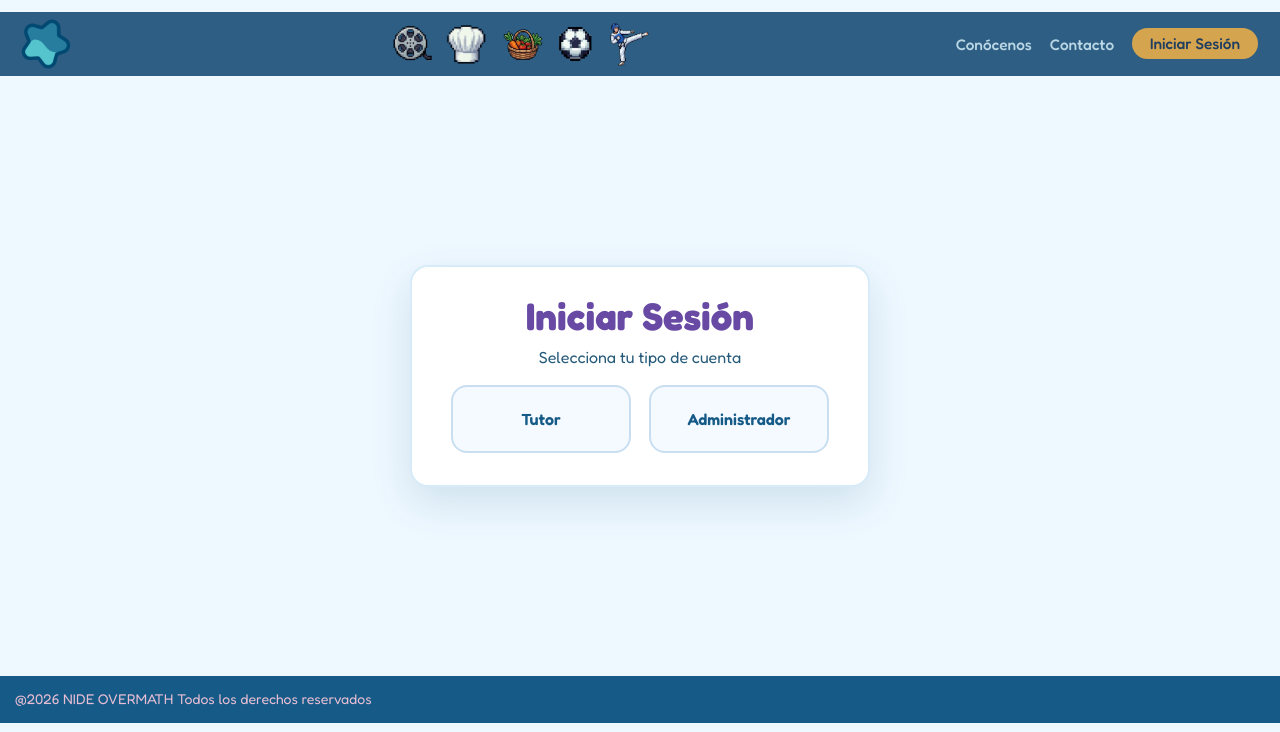
Test: LoginPage › muestra "Acceso Administrador" al elegir rol admin
This screenshot has width=1280, height=732.
Step 1. Click the button "Administrador" → click(739, 419), box [649,385,829,453]
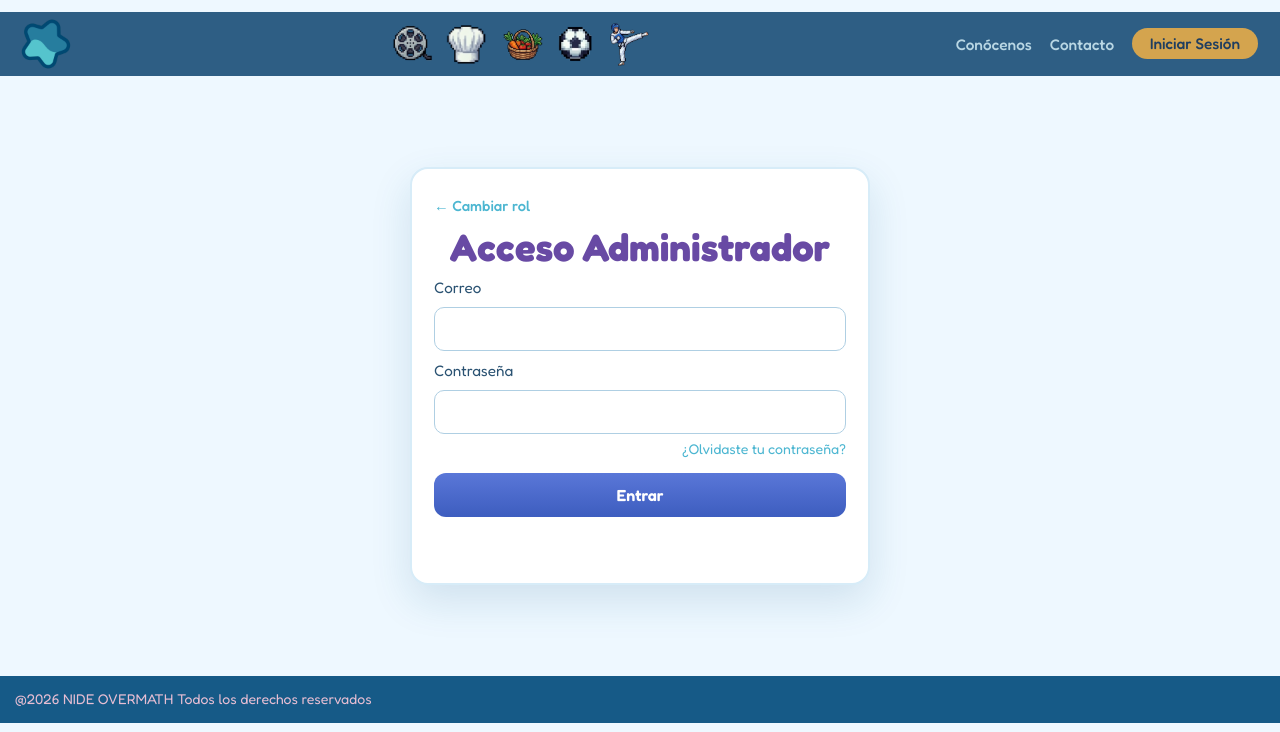
Now the heading "Acceso Administrador" is shown, box [434,224,846,270]
